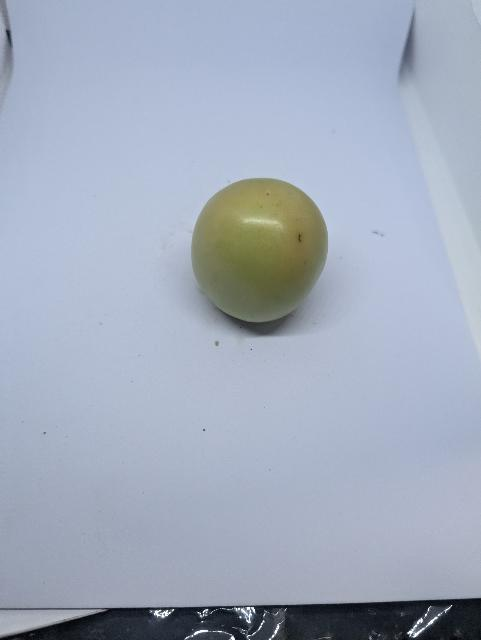green: (190, 176, 331, 325)
